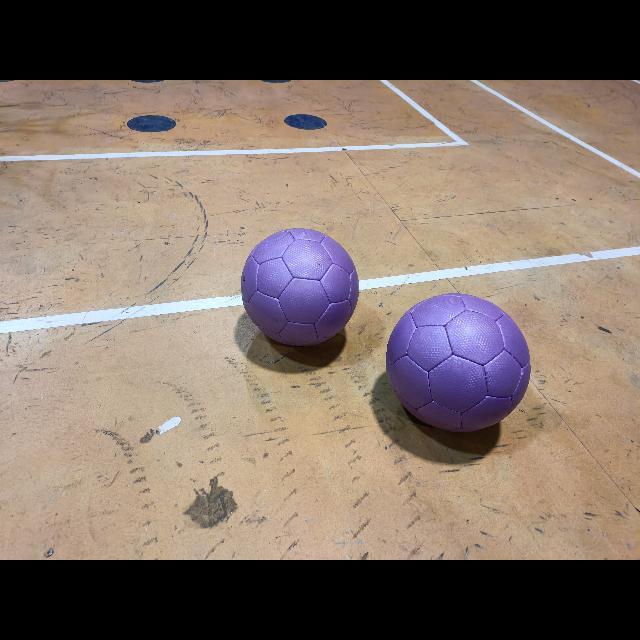P: (386, 294, 530, 432), (242, 228, 358, 344)
